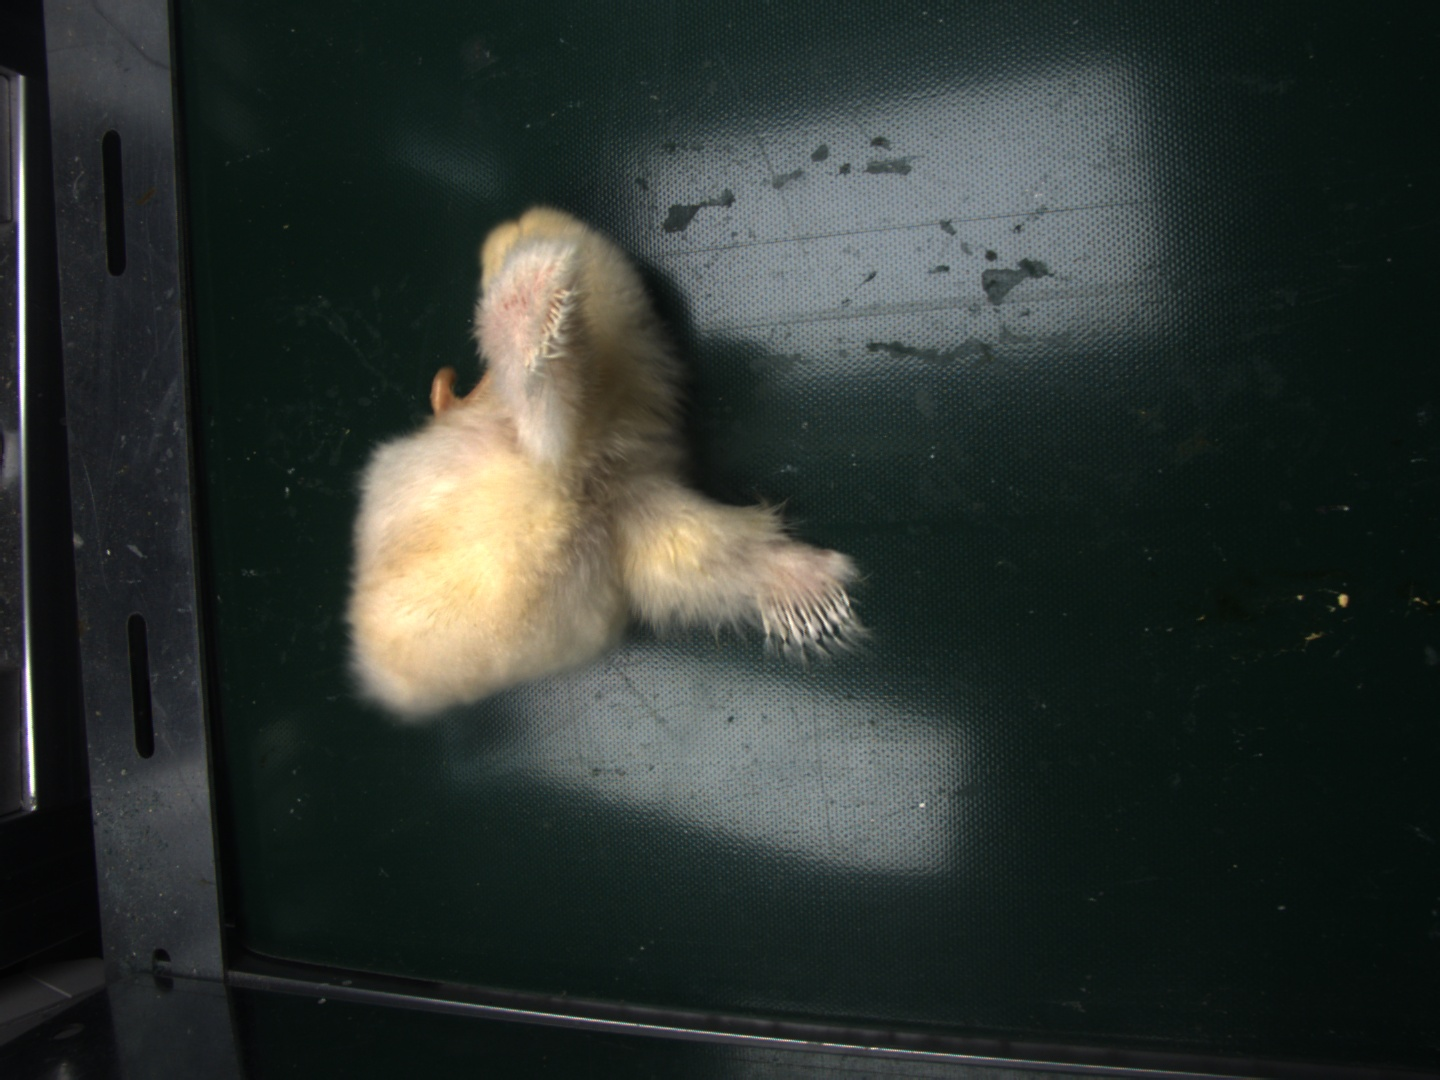male: (753, 583, 856, 642)
